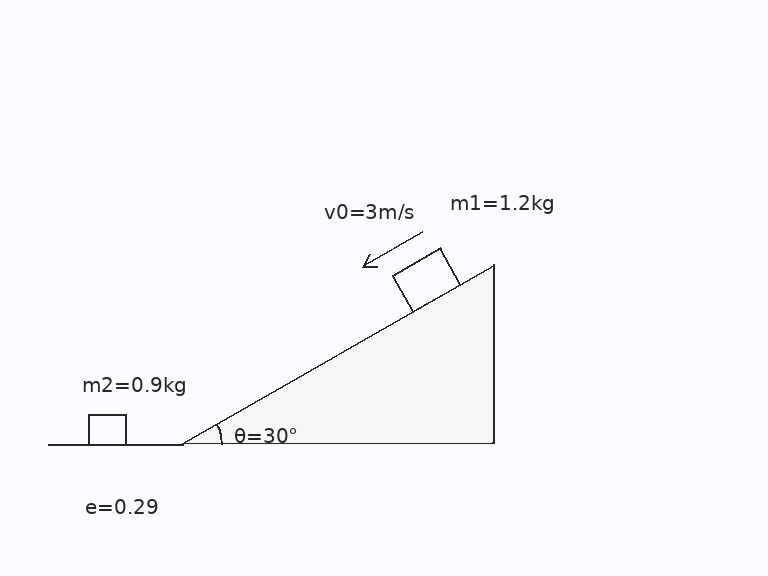block: (390, 246, 462, 313), (85, 413, 129, 446)
ramp: (180, 263, 494, 446)
